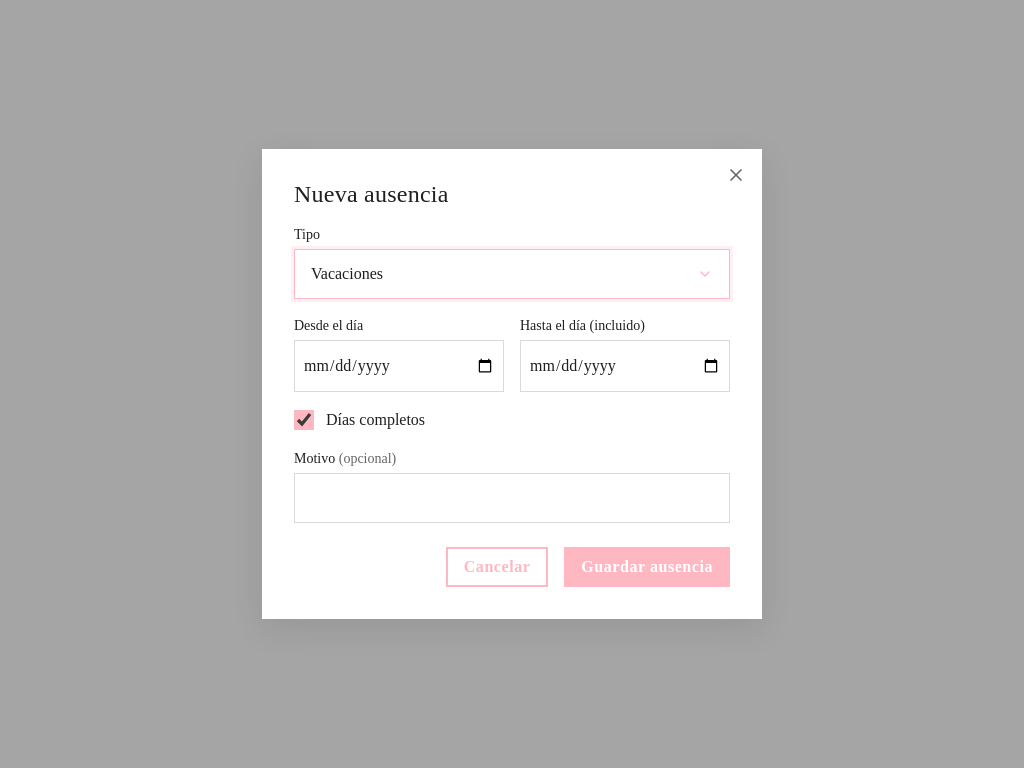
it: AbsenceDialog › con horas, el fin debe ser posterior al inicio
The width and height of the screenshot is (1024, 768).
Type "2026-11-02" into the date field with id "absence-from" at coordinates (399, 366), box [294, 340, 504, 392]
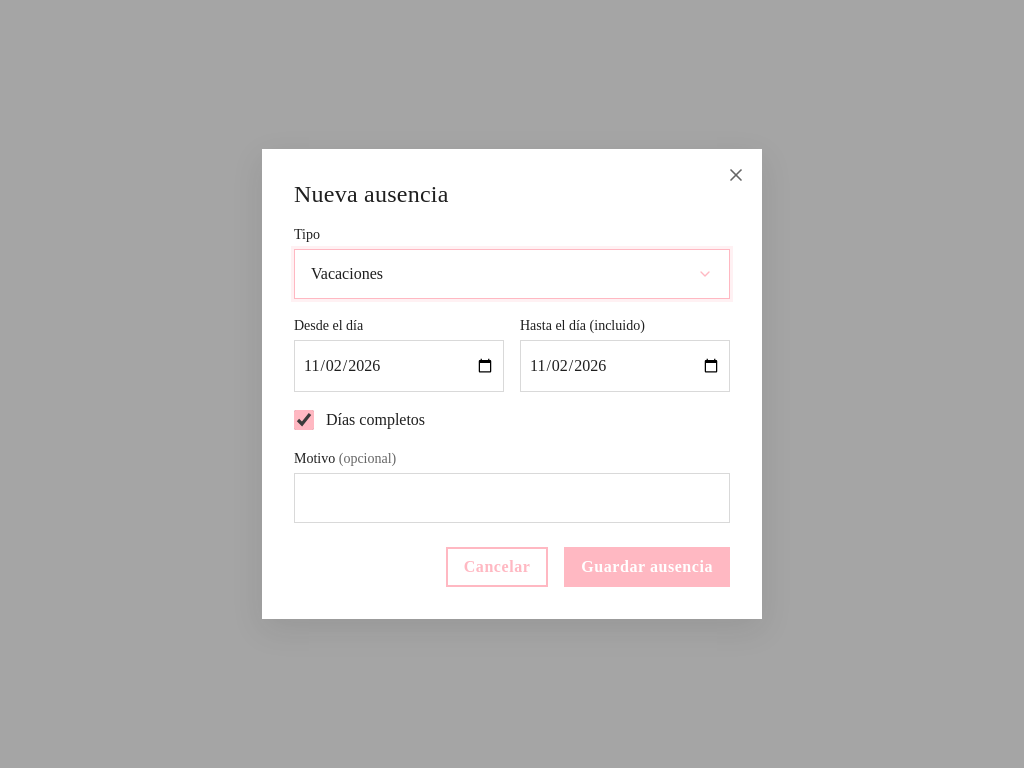
Click the checkbox labelled "Días completos" at coordinates (304, 420), box [294, 410, 314, 430]
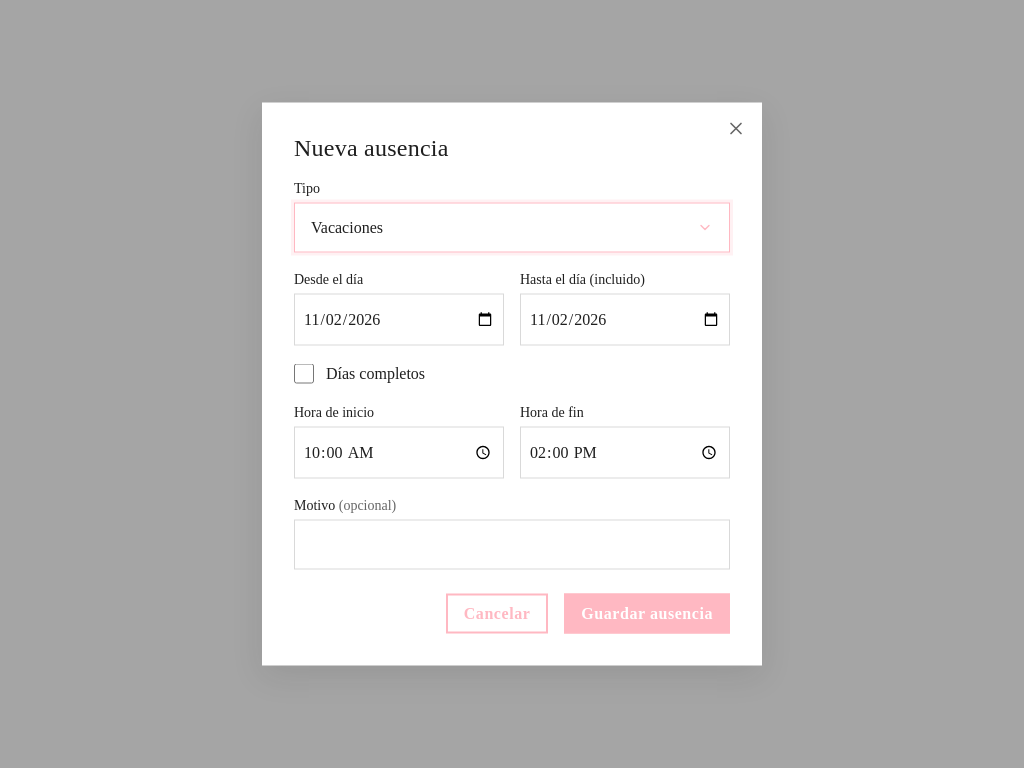
Replace the text in the time field with id "absence-start" with "14:00" at coordinates (399, 452), box [294, 426, 504, 478]
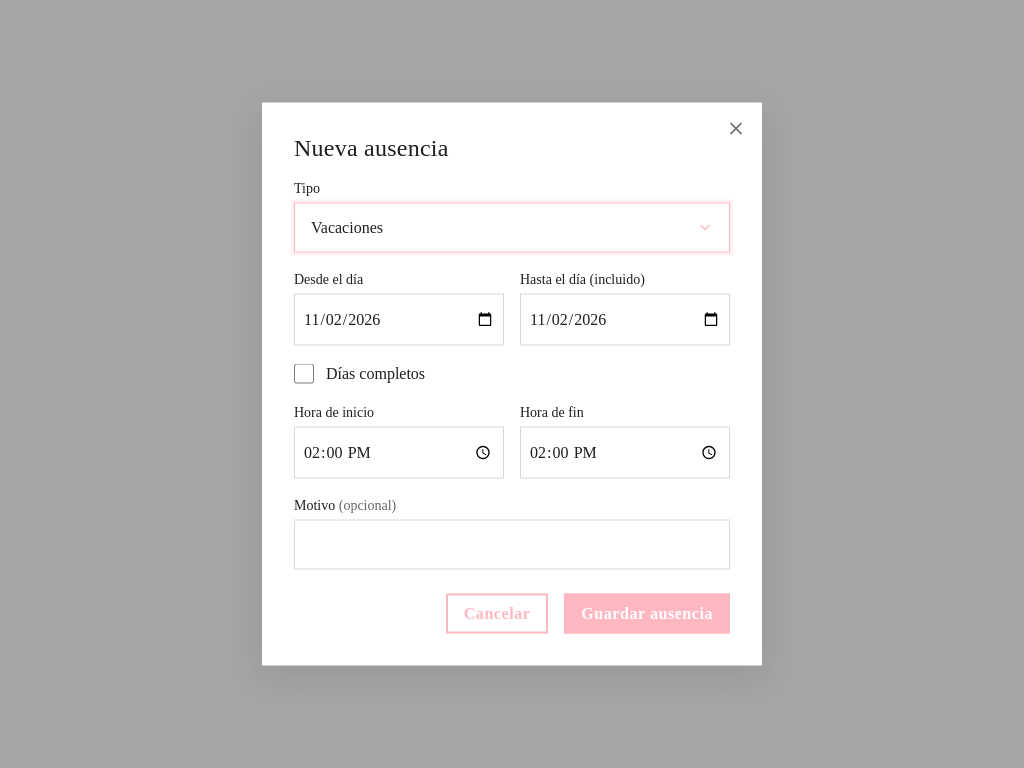
Replace the text in the time field with id "absence-end" with "10:00" at coordinates (625, 452), box [520, 426, 730, 478]
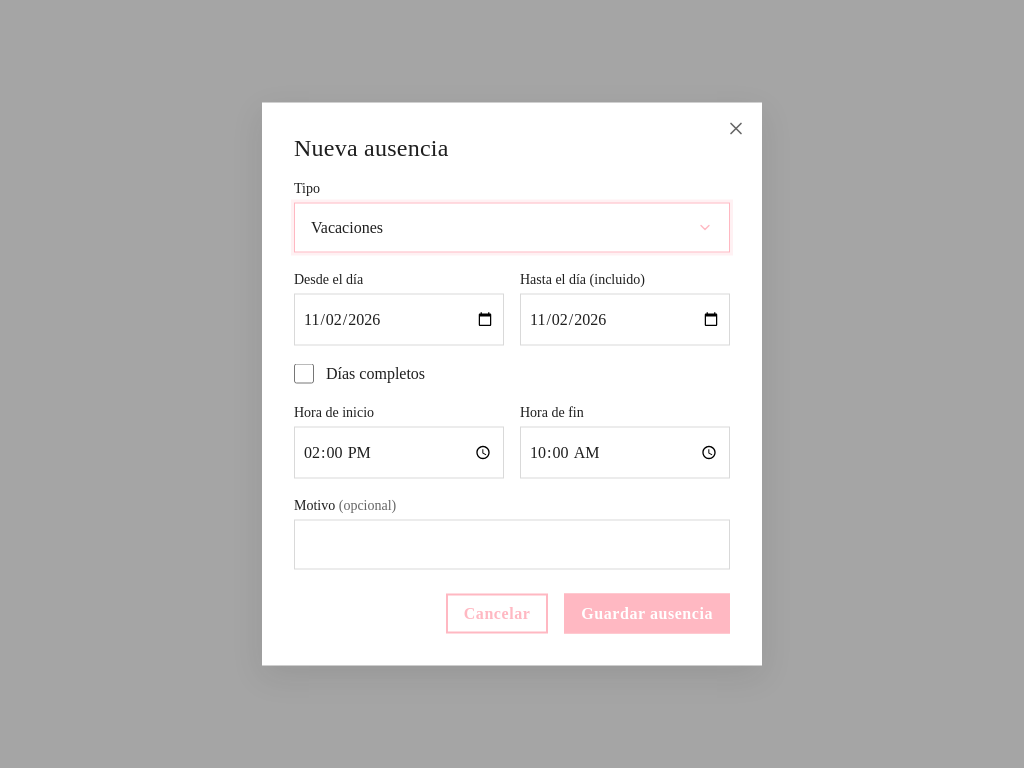
Submit the form with id "absence-form", box [294, 178, 730, 570]
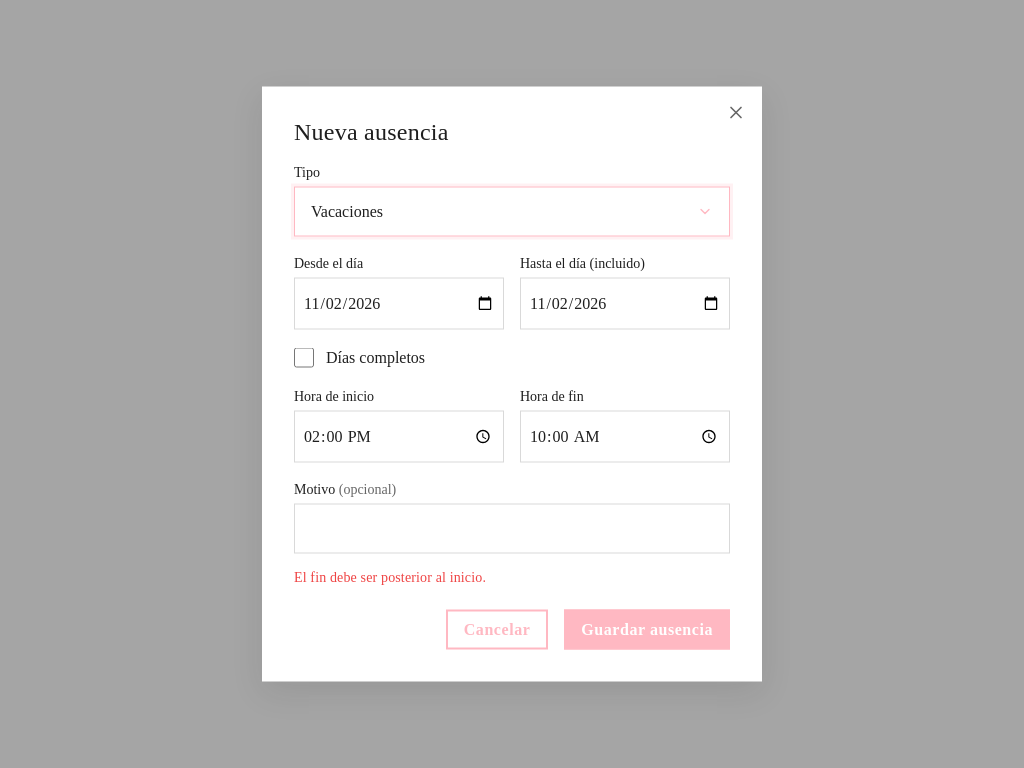
Check: the message "El fin debe ser posterior al inicio." is shown, box [294, 570, 486, 584]
